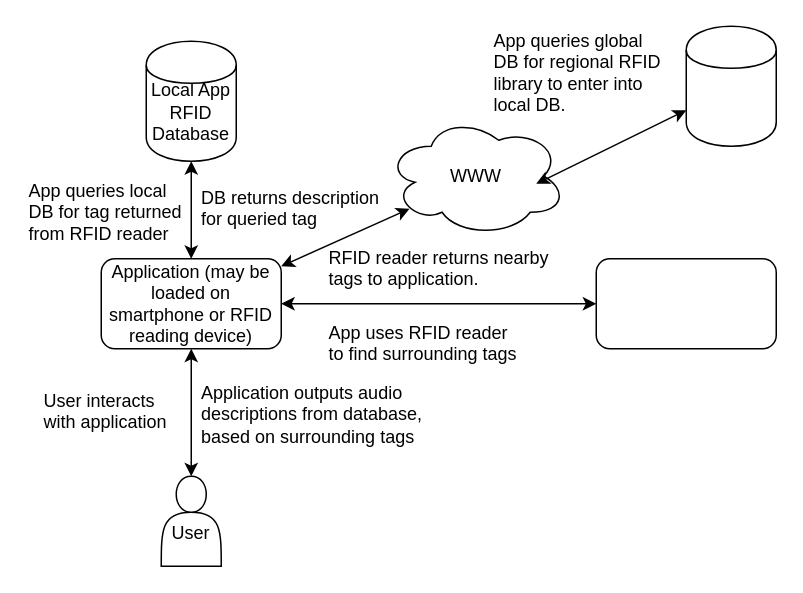
Some shapes in this 803 by 593 pixel diagram are drawn without their labels. Each missing label, with the box of its shape:
Global RFID Database: (685, 25, 776, 146)
RFID Reader: (595, 257, 776, 349)
